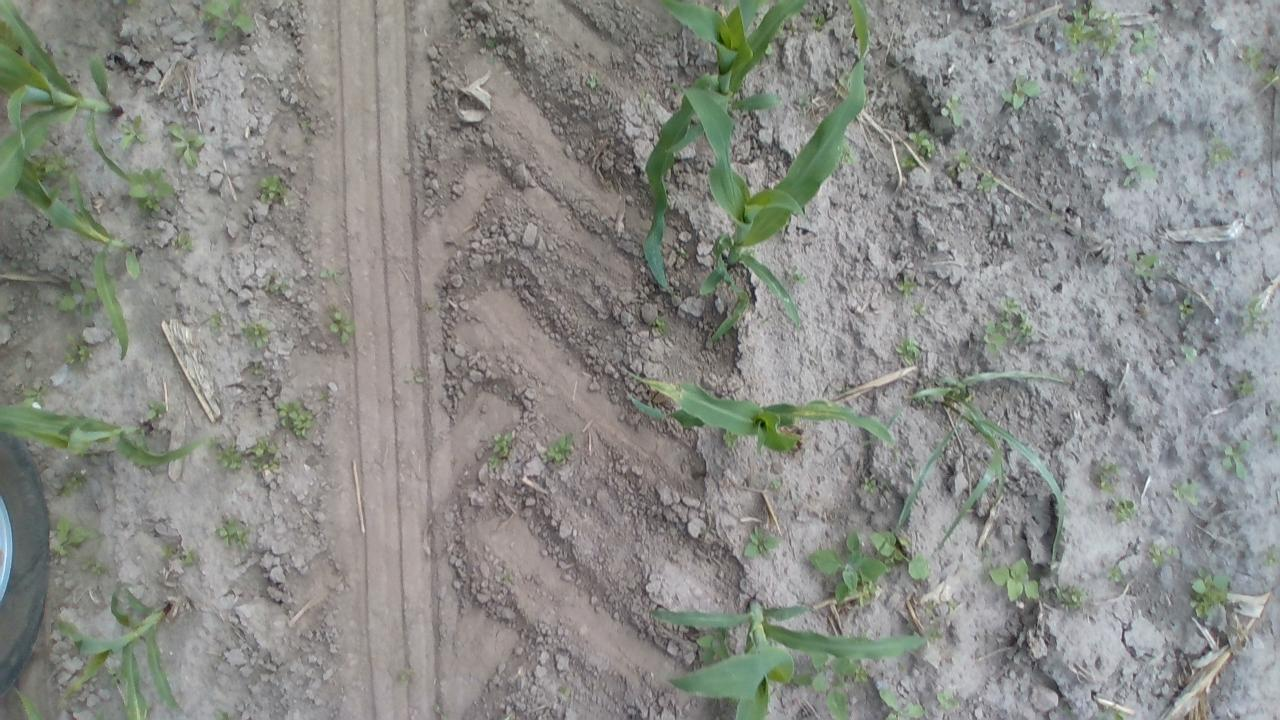Maize: (666, 0, 875, 340), (640, 2, 815, 292), (651, 601, 939, 720), (11, 156, 141, 362), (0, 0, 129, 203), (615, 366, 894, 452), (53, 589, 183, 720), (0, 399, 205, 467), (9, 682, 46, 720)
Weeds: (894, 397, 1070, 561), (884, 371, 1064, 418), (808, 532, 885, 606), (788, 648, 856, 720), (1062, 0, 1123, 59), (870, 529, 930, 581), (1188, 566, 1232, 620), (198, 0, 255, 41), (128, 166, 174, 214), (51, 516, 103, 556), (989, 558, 1038, 600), (58, 277, 102, 315), (168, 122, 204, 168), (998, 297, 1034, 343), (276, 399, 316, 438), (880, 689, 927, 720), (694, 626, 731, 664), (1052, 580, 1092, 614), (30, 150, 72, 182), (214, 518, 252, 550), (1120, 152, 1156, 185), (249, 437, 281, 474), (1003, 76, 1039, 108), (743, 527, 778, 558), (1223, 442, 1250, 481), (1092, 460, 1122, 494), (1237, 297, 1263, 336), (328, 308, 356, 344), (210, 440, 243, 470), (63, 332, 92, 366), (118, 115, 146, 150), (544, 432, 574, 464), (1128, 251, 1158, 281), (982, 320, 1007, 356), (1206, 135, 1234, 166), (239, 322, 274, 346), (1130, 25, 1160, 53), (942, 94, 965, 130), (256, 175, 286, 202), (907, 130, 934, 160), (0, 22, 25, 54), (894, 336, 922, 364), (1172, 481, 1202, 507), (1112, 498, 1139, 526), (945, 148, 973, 174), (60, 474, 88, 499), (934, 688, 964, 710), (22, 386, 49, 410), (1240, 47, 1264, 71), (1234, 369, 1256, 395), (972, 172, 999, 193), (491, 432, 513, 456), (1262, 63, 1280, 91), (896, 276, 918, 298), (1180, 344, 1201, 366), (484, 36, 500, 64), (852, 660, 872, 682), (82, 558, 106, 576), (1178, 298, 1196, 322), (145, 400, 166, 420), (404, 364, 426, 383), (1148, 543, 1164, 569), (1094, 708, 1128, 720), (176, 230, 195, 251), (1104, 564, 1123, 584), (721, 428, 741, 447), (861, 476, 880, 496), (838, 144, 855, 166), (928, 628, 948, 645), (809, 11, 826, 31), (1139, 66, 1156, 86), (793, 264, 808, 286), (1068, 66, 1086, 84), (899, 152, 918, 169), (109, 668, 127, 685), (1262, 548, 1279, 565), (396, 668, 414, 684), (909, 302, 928, 317), (652, 316, 668, 333), (209, 312, 222, 330), (182, 549, 197, 564), (638, 88, 652, 104), (840, 72, 852, 90), (161, 543, 174, 559), (586, 72, 598, 89), (266, 283, 288, 292), (499, 570, 515, 582), (319, 268, 336, 279), (249, 361, 262, 375), (798, 96, 812, 109), (1165, 546, 1180, 558), (1074, 364, 1086, 379), (924, 600, 935, 616), (559, 684, 571, 698), (214, 708, 228, 720), (55, 46, 67, 60), (486, 457, 501, 468), (763, 44, 775, 56), (95, 709, 108, 720), (1273, 429, 1280, 448), (947, 600, 958, 612), (776, 22, 784, 38), (768, 480, 782, 488), (678, 248, 688, 258), (301, 120, 310, 130), (748, 246, 756, 256), (317, 393, 326, 400), (858, 631, 868, 636), (127, 0, 137, 5)
